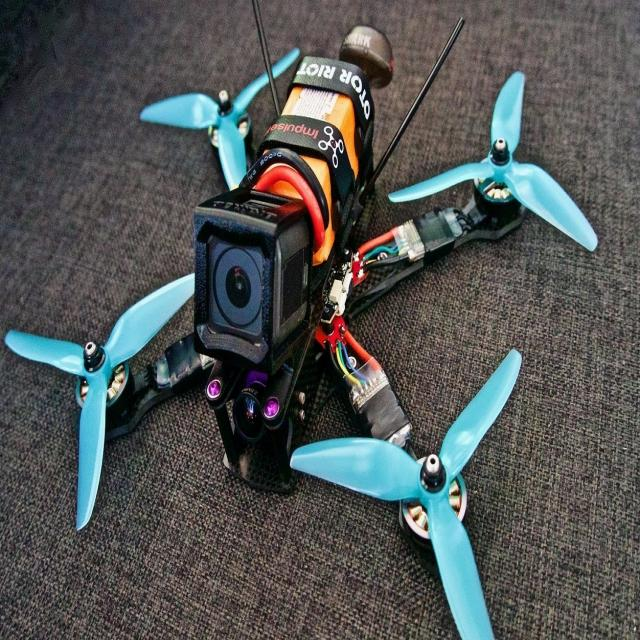drone: (0, 9, 614, 639)
